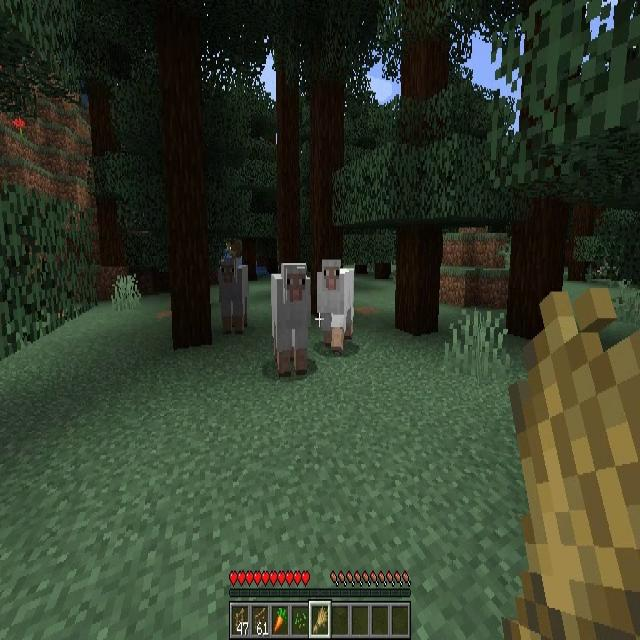sheep: (270, 265, 308, 375), (315, 260, 353, 352), (219, 258, 248, 332)
